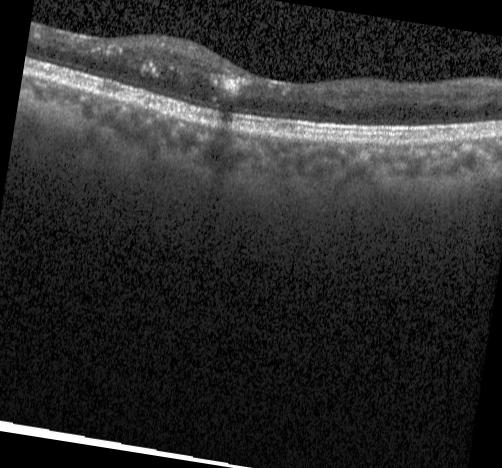vitreomacular_traction: (133, 0, 204, 30), (441, 48, 502, 61)
